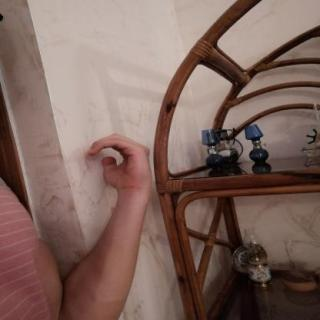JEEM: (75, 128, 159, 198)
